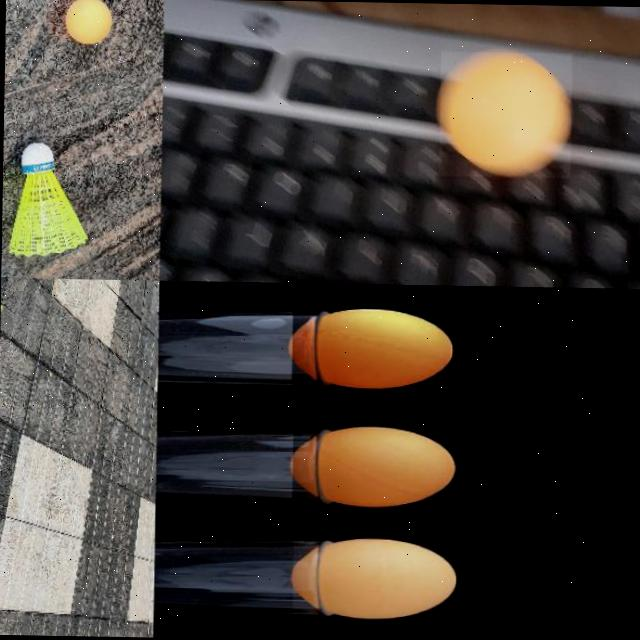ping-pong-ball: (438, 48, 572, 176), (290, 426, 456, 508), (291, 537, 456, 619), (290, 308, 455, 390), (64, 0, 113, 43)
